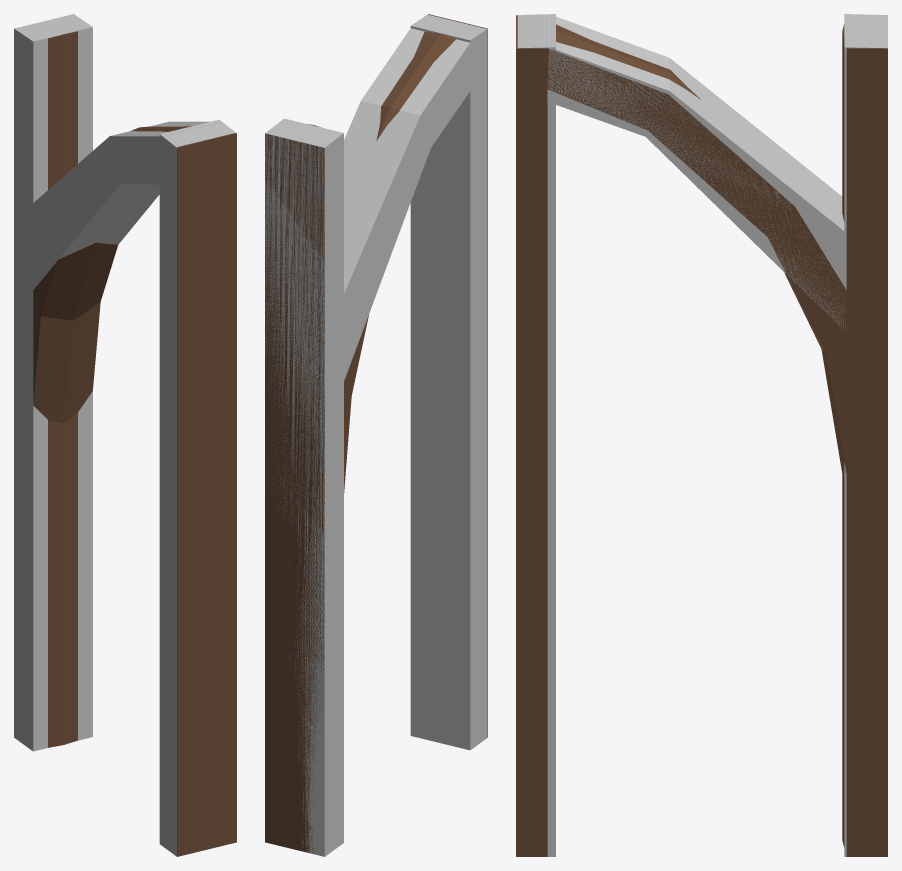
Rendered from SM_Bld_Wall_Frame_Half_03.fbx.
3 renders of one model, left to right at view 1: azimuth 30°, elevation 25°; view 2: azimuth 150°, elevation 25°; view 3: azimuth 270°, elevation 25°, orthographic. The views are drawn at different scales.
Parts seen in each view (by area): view 1: SM_Bld_Wall_Frame_Half_03, SM_Bld_Wall_Frame_Half_03_ConvexHulls; view 2: SM_Bld_Wall_Frame_Half_03_ConvexHulls, SM_Bld_Wall_Frame_Half_03; view 3: SM_Bld_Wall_Frame_Half_03, SM_Bld_Wall_Frame_Half_03_ConvexHulls.
Boxes of the visible parts, box(x1,y1,x2,y2) form: SM_Bld_Wall_Frame_Half_03: box(33, 31, 236, 856); SM_Bld_Wall_Frame_Half_03_ConvexHulls: box(14, 14, 236, 856); SM_Bld_Wall_Frame_Half_03_ConvexHulls: box(265, 14, 487, 856); SM_Bld_Wall_Frame_Half_03: box(265, 14, 487, 852); SM_Bld_Wall_Frame_Half_03: box(516, 15, 887, 856); SM_Bld_Wall_Frame_Half_03_ConvexHulls: box(516, 14, 887, 856).
Size of the model in its own units: 26.42 by 125 by 300.
2 materials, 1 textured.
